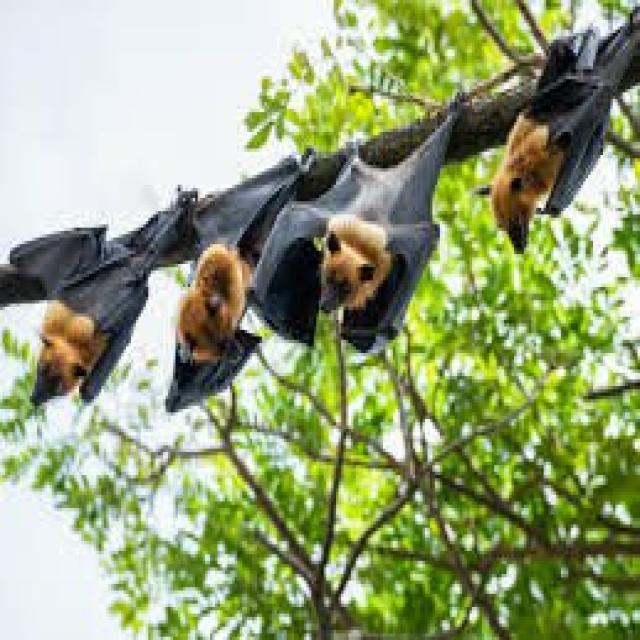Bat: (489, 22, 636, 254), (314, 104, 461, 334)
